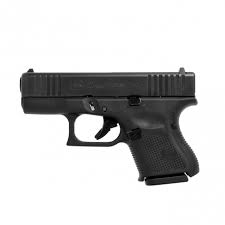weapon: (10, 62, 216, 201)
